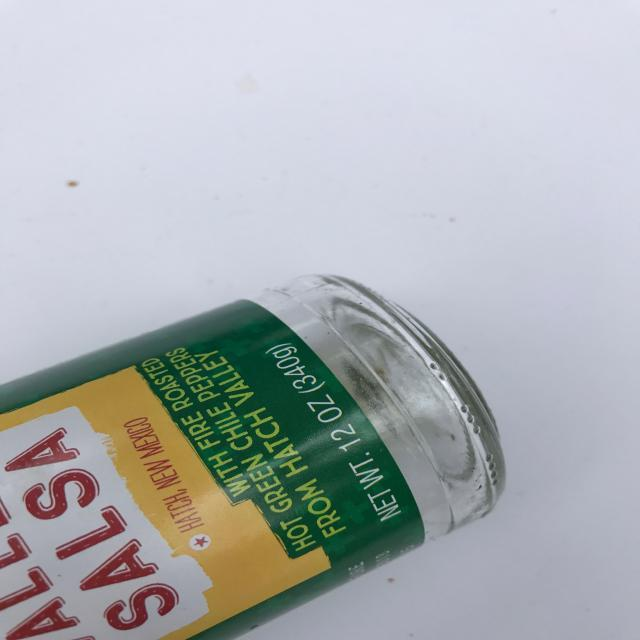glass: (2, 273, 507, 640)
